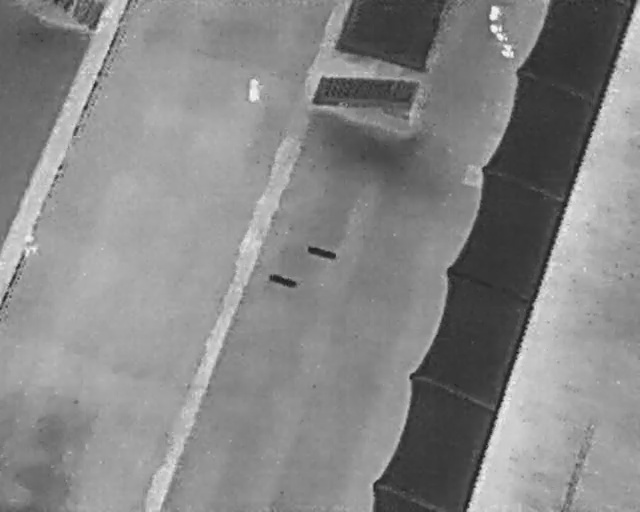Person: (247, 75, 263, 104), (23, 232, 40, 258)
